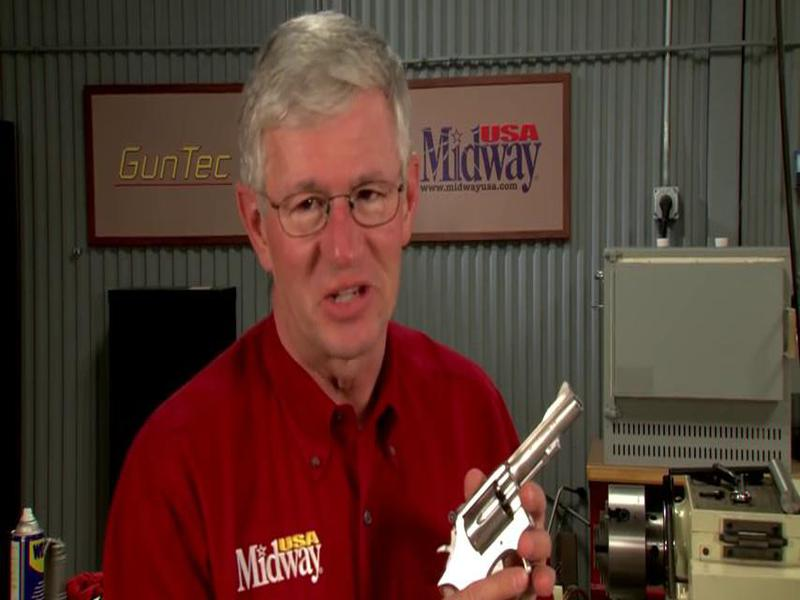Revolver: (414, 355, 577, 600)
